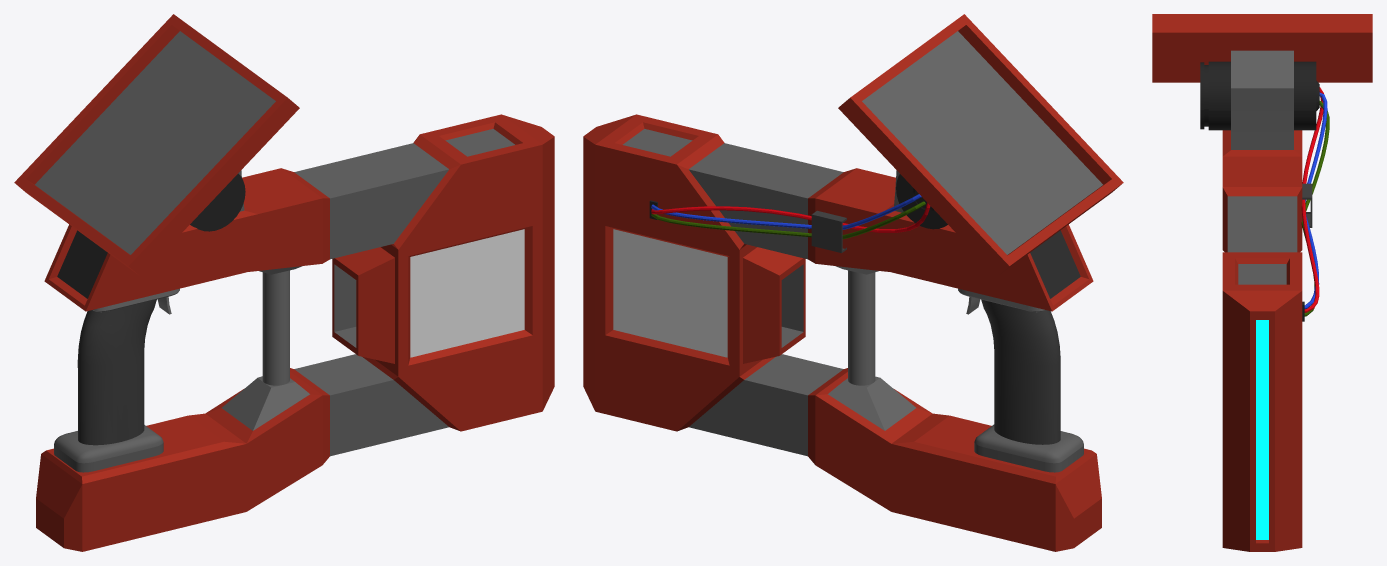
Rendered from ScannerV3.fbx.
The picture shows the model from 3 angles, left to right: view 1: azimuth 30°, elevation 25°; view 2: azimuth 150°, elevation 25°; view 3: azimuth 270°, elevation 25°; orthographic projection. The views are drawn at different scales.
Parts seen in each view (by area): view 1: Cube; view 2: Cube; view 3: Cube.
Part boxes in pixels (x1,y1,x2,y2): Cube: [14, 14, 554, 551]; Cube: [583, 14, 1123, 551]; Cube: [1152, 14, 1372, 551].
Bounding box in the file's own units: 1428 × 1205 × 567.
